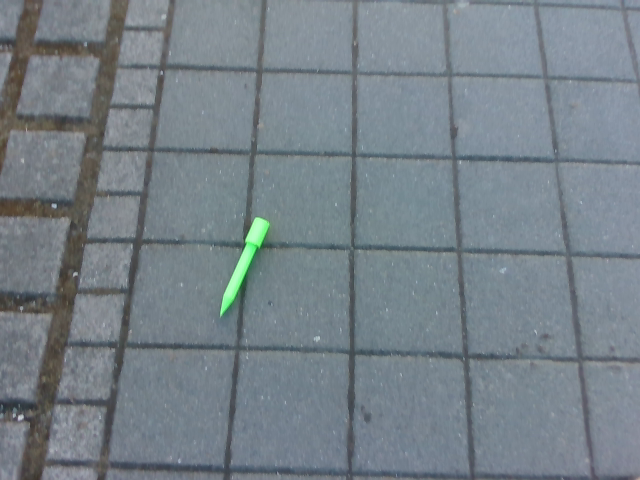Probe: (215, 214, 273, 322)
